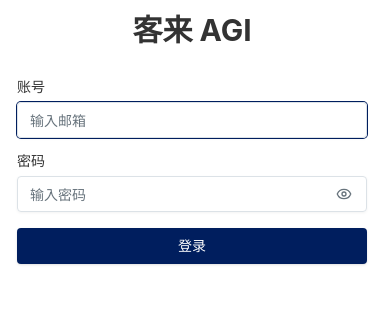
Scenario: LoginForm validation convention › shows the server error and stays on the form when login fails
Type "admin@example.com" into the field with placeholder "输入邮箱" at (192, 120), box [17,102,367,138]
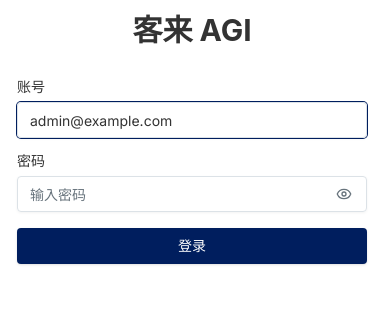
Type "secret-pass" into the password field with placeholder "输入密码" at (173, 194), box [18,176,328,212]
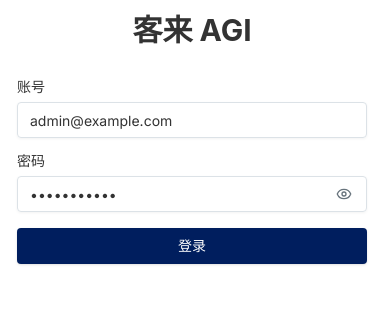
Click the button "登录" at (192, 246), box [17,228,367,264]
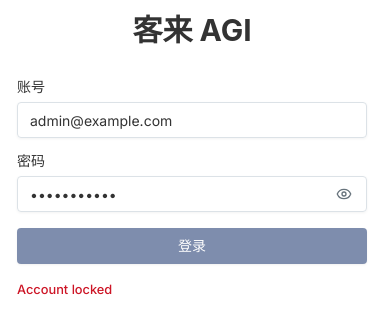
expect the text "Account locked" is shown: met, box [17,282,112,297]
